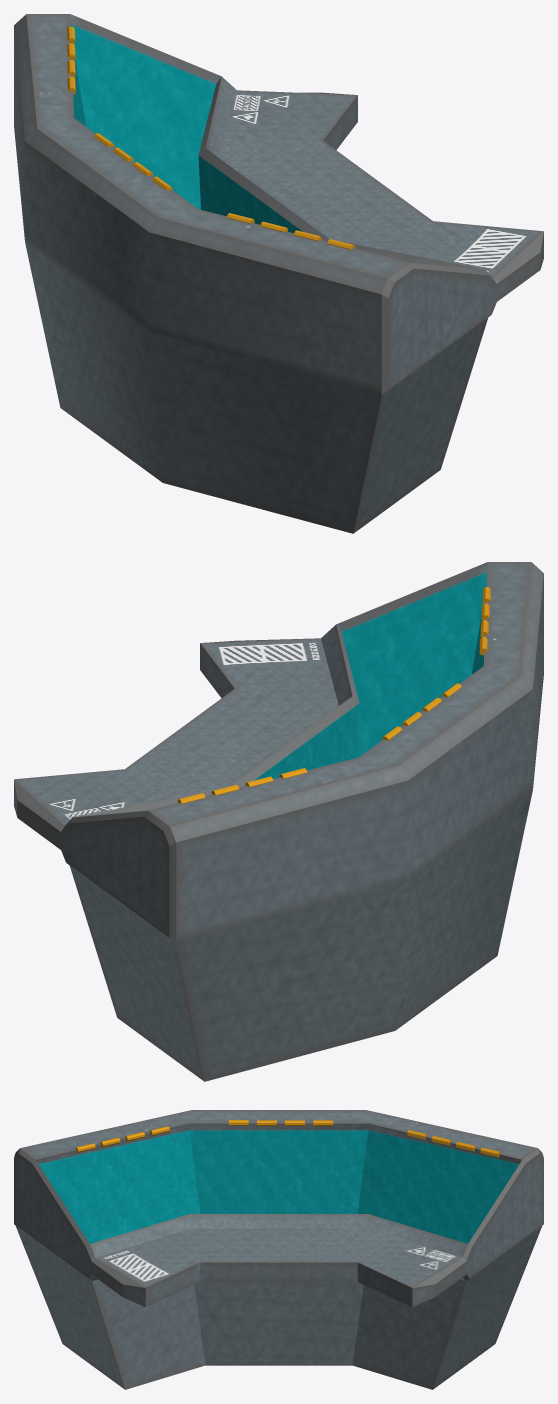
Rendered from Console.fbx.
3 renders of one model, top to bottom at view 1: azimuth 30°, elevation 25°; view 2: azimuth 150°, elevation 25°; view 3: azimuth 270°, elevation 25°, orthographic. The views are drawn at different scales.
Parts seen in each view (by area): view 1: Console1; view 2: Console1; view 3: Console1.
Boxes of the visible parts, x1=… form: Console1: x1=14, y1=14, x2=543, y2=533; Console1: x1=14, y1=562, x2=543, y2=1081; Console1: x1=14, y1=1110, x2=543, y2=1389.
Bounding box in the file's own units: 1499 × 1099 × 2641.
